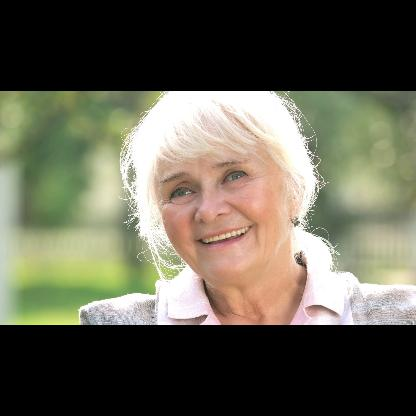Female: (157, 104, 304, 276)
